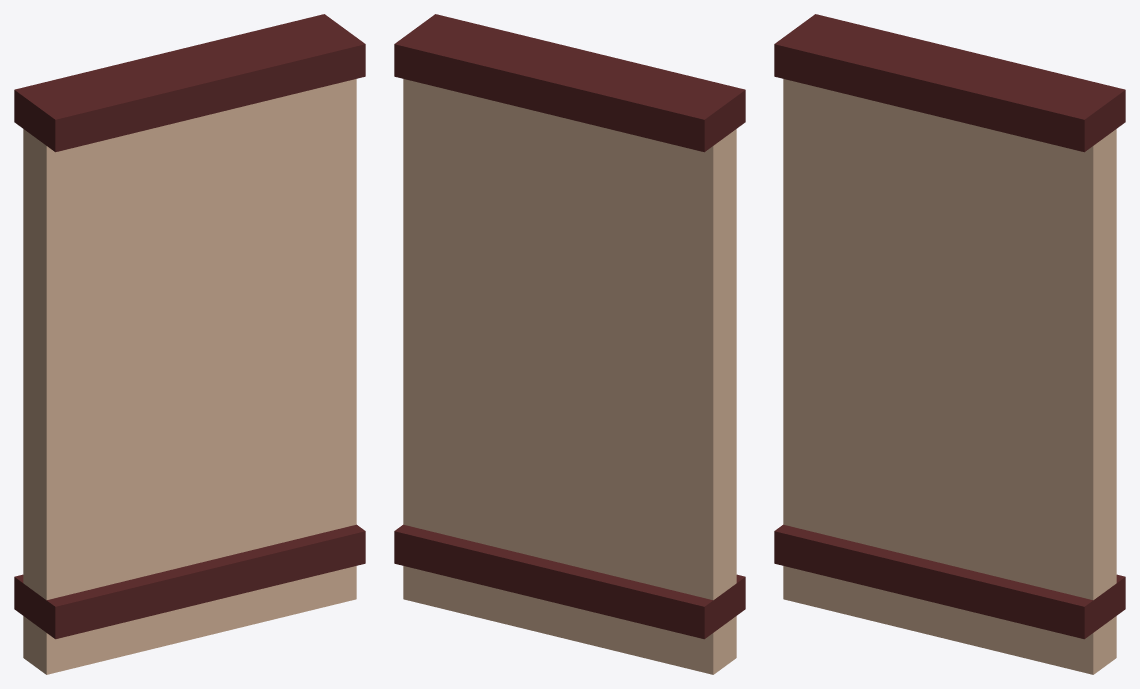
Rendered from ASFTR_Mod_Wall.fbx.
The picture shows the model from 3 angles, left to right: view 1: azimuth 30°, elevation 25°; view 2: azimuth 150°, elevation 25°; view 3: azimuth 330°, elevation 25°; orthographic projection.
Parts seen in each view (by area): view 1: ASFTR_Mod_Wall; view 2: ASFTR_Mod_Wall; view 3: ASFTR_Mod_Wall.
Boxes of the visible parts, x1,y1,x2,y2 form: ASFTR_Mod_Wall: [14, 14, 365, 674]; ASFTR_Mod_Wall: [394, 14, 745, 674]; ASFTR_Mod_Wall: [774, 14, 1125, 674].
Bounding box in the file's own units: 100 × 173 × 23.
